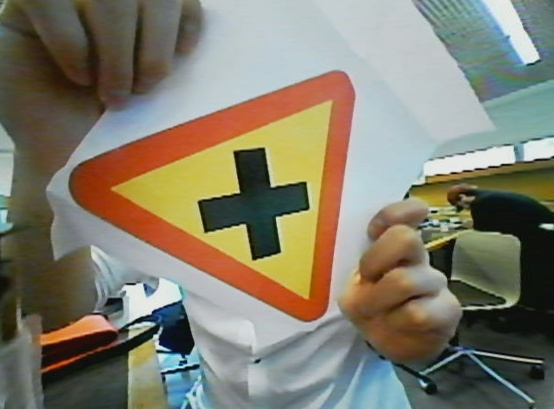junction: (43, 67, 341, 327)
